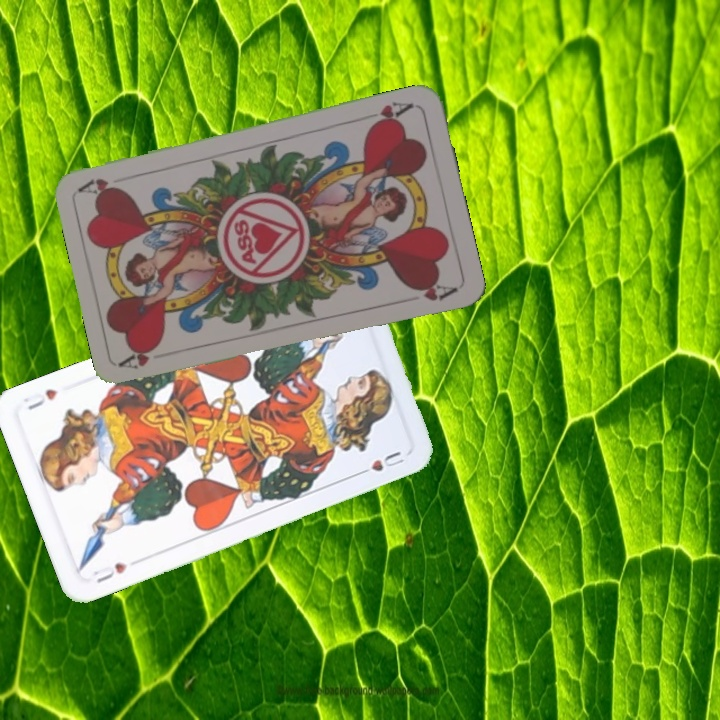HA: (364, 97, 416, 131), (118, 342, 163, 372)
HU: (89, 558, 130, 586)
